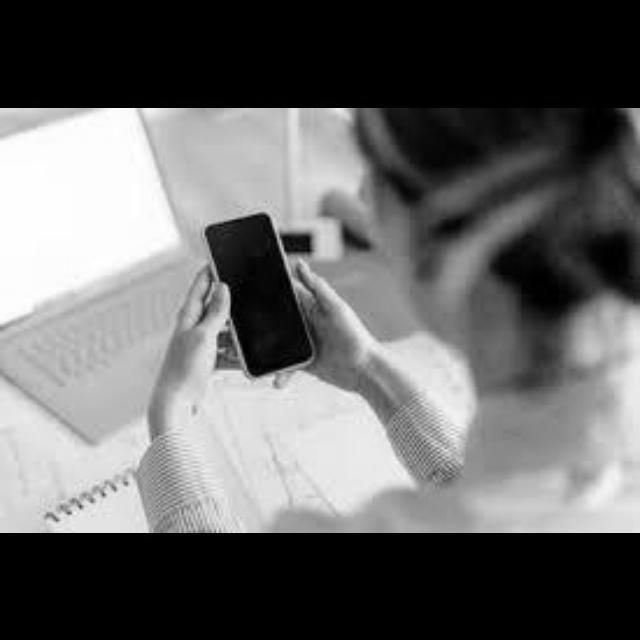fake: (213, 214, 314, 384)
